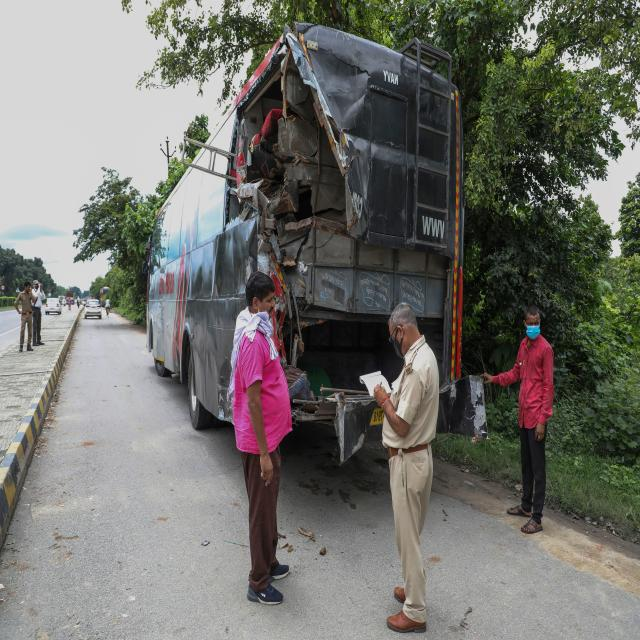accident: (146, 22, 486, 459)
